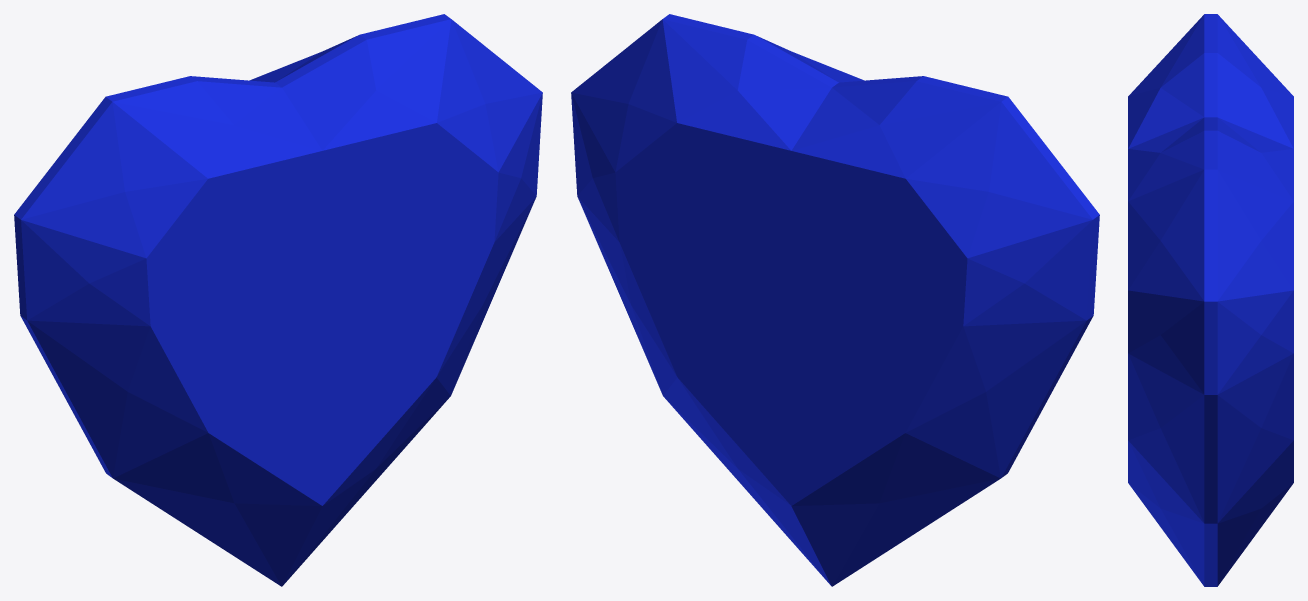
The model's file is jewel3_Sapphire.fbx.
3 renders of one model, left to right at view 1: azimuth 30°, elevation 25°; view 2: azimuth 150°, elevation 25°; view 3: azimuth 270°, elevation 25°, orthographic. The views are drawn at different scales.
Visible parts, largest first — view 1: jewel3_Sapphire; view 2: jewel3_Sapphire; view 3: jewel3_Sapphire.
Part boxes in pixels (x1=…): jewel3_Sapphire: x1=14, y1=14, x2=542, y2=586; jewel3_Sapphire: x1=571, y1=14, x2=1099, y2=586; jewel3_Sapphire: x1=1128, y1=14, x2=1293, y2=586.
Bounding box in the file's own units: 0.6121 × 0.5901 × 0.1789.
